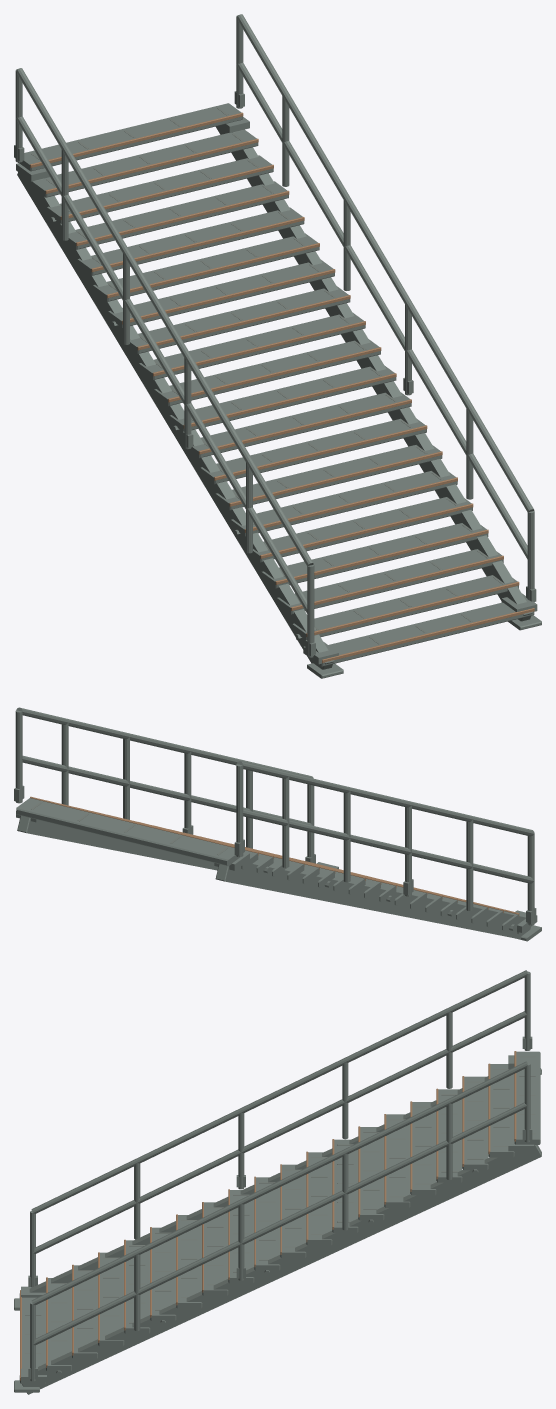
The model's file is Stair.fbx.
3 renders of one model, top to bottom at view 1: azimuth 30°, elevation 25°; view 2: azimuth 150°, elevation 25°; view 3: azimuth 270°, elevation 25°, orthographic. The views are drawn at different scales.
Visible parts, largest first — view 1: Treads__Steel, Guard__Steel, TreadNosing__Rust, Stringers__Steel, TreadGrip__ConcreteDark; view 2: Guard__Steel, Stringers__Steel, Treads__Steel, TreadNosing__Rust; view 3: Treads__Steel, Guard__Steel, Stringers__Steel, TreadNosing__Rust, TreadGrip__ConcreteDark.
Boxes of the visible parts, x1=… form: Treads__Steel: x1=18, y1=103, x2=534, y2=666; Guard__Steel: x1=14, y1=14, x2=536, y2=657; TreadNosing__Rust: x1=30, y1=112, x2=534, y2=663; Stringers__Steel: x1=16, y1=117, x2=537, y2=669; TreadGrip__ConcreteDark: x1=31, y1=107, x2=504, y2=644; Guard__Steel: x1=14, y1=707, x2=536, y2=925; Stringers__Steel: x1=16, y1=811, x2=537, y2=939; Treads__Steel: x1=16, y1=798, x2=532, y2=934; TreadNosing__Rust: x1=30, y1=796, x2=519, y2=916; Treads__Steel: x1=20, y1=1051, x2=540, y2=1383; Guard__Steel: x1=28, y1=970, x2=532, y2=1381; Stringers__Steel: x1=19, y1=1055, x2=541, y2=1394; TreadNosing__Rust: x1=20, y1=1051, x2=516, y2=1380; TreadGrip__ConcreteDark: x1=25, y1=1056, x2=535, y2=1360.
Size of what is drawn, in the model's own units: 2.56 by 4.27 by 6.09.
